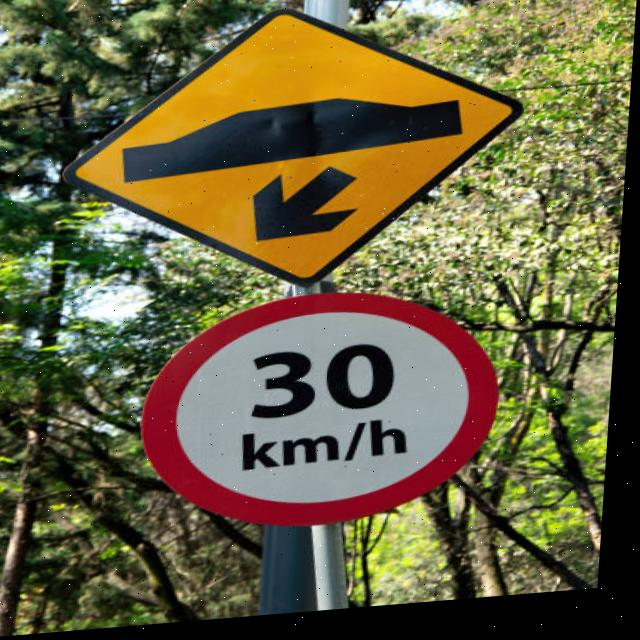Speed limit 30: (138, 286, 515, 546)
